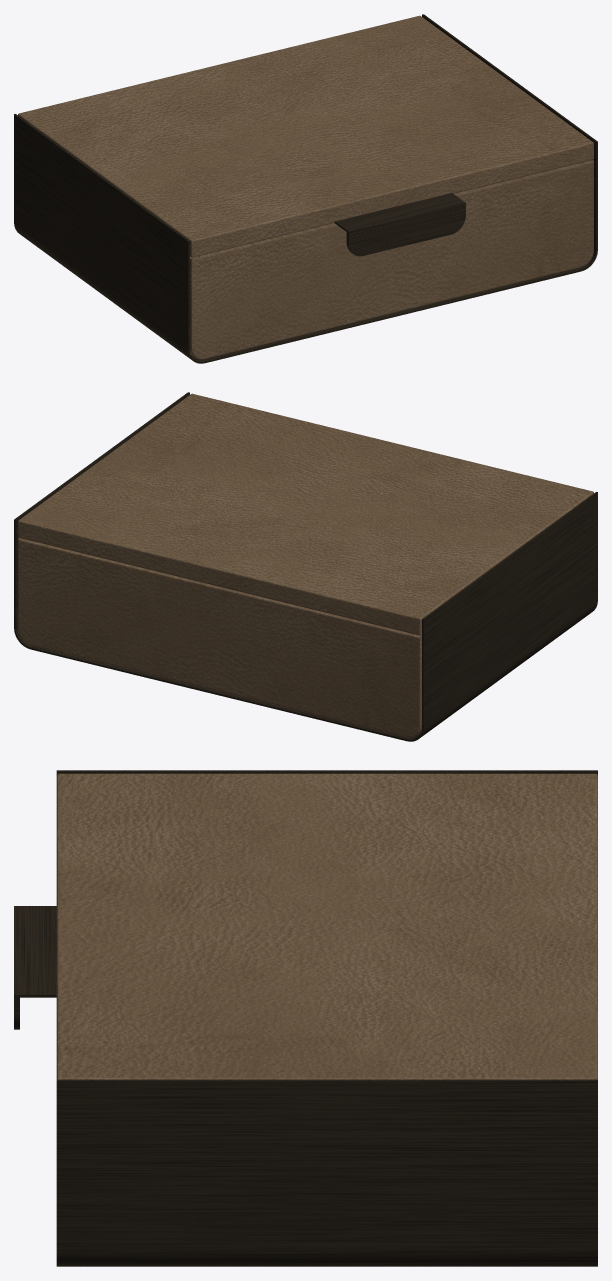
Rendered from GiftBox.fbx.
3 renders of one model, top to bottom at view 1: azimuth 30°, elevation 25°; view 2: azimuth 150°, elevation 25°; view 3: azimuth 270°, elevation 25°, orthographic. The views are drawn at different scales.
Parts seen in each view (by area): view 1: Rectangle2106812623.001, Rectangle2106812622.001, Rectangle2106812621.001, Rectangle2106812624.001; view 2: Rectangle2106812623.001, Rectangle2106812622.001, Rectangle2106812621.001; view 3: Rectangle2106812623.001, Rectangle2106812621.001, Rectangle2106812624.001.
Boxes of the visible parts, box(x1,y1,x2,y2) form: Rectangle2106812623.001: box(18, 15, 593, 257); Rectangle2106812622.001: box(190, 160, 593, 359); Rectangle2106812621.001: box(14, 14, 597, 363); Rectangle2106812624.001: box(334, 193, 465, 256); Rectangle2106812623.001: box(18, 393, 593, 635); Rectangle2106812622.001: box(18, 538, 421, 737); Rectangle2106812621.001: box(14, 392, 597, 741); Rectangle2106812623.001: box(56, 773, 597, 1079); Rectangle2106812621.001: box(56, 770, 597, 1266); Rectangle2106812624.001: box(14, 906, 56, 1029).
Bounding box in the file's own units: 0.2445 × 0.0717 × 0.1942.
2 materials, 2 textured.
